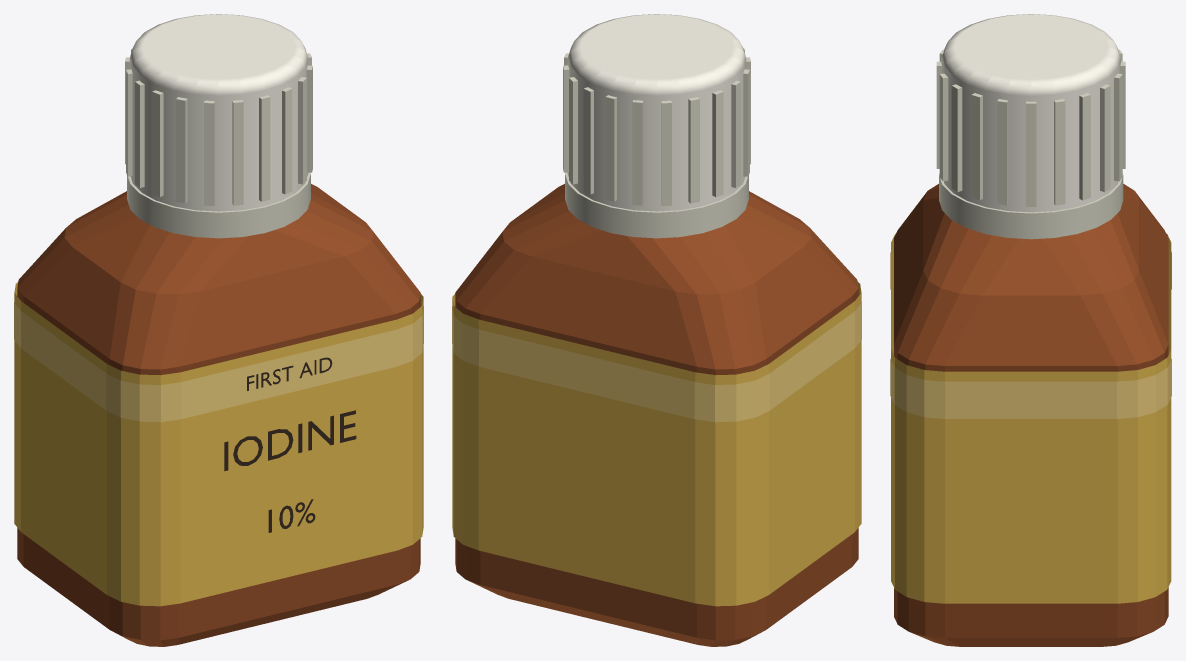
The model's file is IodineBottle.fbx.
3 renders of one model, left to right at view 1: azimuth 30°, elevation 25°; view 2: azimuth 150°, elevation 25°; view 3: azimuth 270°, elevation 25°, orthographic.
Visible parts, largest first — view 1: Gold wrap label, Amber squeeze bottle, White threaded cap, Label highlight band, Cap seal collar, Iodine lettering, Cap grip ridge.012, Cap grip ridge.014, Cap grip ridge.015, Cap grip ridge.011, Cap grip ridge.016, Cap grip ridge.013 (+4 smaller); view 2: Gold wrap label, Amber squeeze bottle, White threaded cap, Label highlight band, Cap seal collar, Cap grip ridge.008, Cap grip ridge.006, Cap grip ridge.005, Cap grip ridge.009, Cap grip ridge.004, Cap grip ridge.007, Cap grip ridge.010 (+3 smaller); view 3: Gold wrap label, Amber squeeze bottle, White threaded cap, Label highlight band, Cap seal collar, Cap grip ridge.002, Cap grip ridge.001, Cap grip ridge.018, Cap grip ridge.019, Cap grip ridge.017, Cap grip ridge, Cap grip ridge.003 (+4 smaller).
Boxes of the visible parts, x1=… form: Gold wrap label: x1=14, y1=282, x2=423, y2=606; Amber squeeze bottle: x1=17, y1=184, x2=420, y2=646; White threaded cap: x1=129, y1=14, x2=308, y2=211; Label highlight band: x1=14, y1=302, x2=423, y2=422; Cap seal collar: x1=127, y1=172, x2=310, y2=238; Iodine lettering: x1=224, y1=410, x2=356, y2=471; Cap grip ridge.012: x1=176, y1=97, x2=187, y2=203; Cap grip ridge.014: x1=232, y1=100, x2=243, y2=205; Cap grip ridge.015: x1=259, y1=95, x2=270, y2=201; Cap grip ridge.011: x1=152, y1=90, x2=163, y2=197; Cap grip ridge.016: x1=282, y1=87, x2=292, y2=194; Cap grip ridge.013: x1=204, y1=100, x2=214, y2=205; Gold wrap label: x1=452, y1=282, x2=861, y2=606; Amber squeeze bottle: x1=455, y1=184, x2=858, y2=646; White threaded cap: x1=567, y1=14, x2=746, y2=211; Label highlight band: x1=452, y1=302, x2=861, y2=422; Cap seal collar: x1=565, y1=172, x2=748, y2=238; Cap grip ridge.008: x1=688, y1=97, x2=699, y2=203; Cap grip ridge.006: x1=632, y1=100, x2=643, y2=205; Cap grip ridge.005: x1=605, y1=95, x2=616, y2=201; Cap grip ridge.009: x1=712, y1=90, x2=723, y2=197; Cap grip ridge.004: x1=583, y1=87, x2=593, y2=194; Cap grip ridge.007: x1=661, y1=100, x2=671, y2=205; Cap grip ridge.010: x1=731, y1=80, x2=740, y2=187; Gold wrap label: x1=891, y1=233, x2=1171, y2=603; Amber squeeze bottle: x1=894, y1=184, x2=1168, y2=646; White threaded cap: x1=941, y1=14, x2=1120, y2=212; Label highlight band: x1=890, y1=252, x2=1171, y2=418; Cap seal collar: x1=939, y1=173, x2=1123, y2=239; Cap grip ridge.002: x1=1079, y1=93, x2=1090, y2=200; Cap grip ridge.001: x1=1054, y1=99, x2=1065, y2=205; Cap grip ridge.018: x1=971, y1=93, x2=982, y2=200; Cap grip ridge.019: x1=997, y1=99, x2=1008, y2=205; Cap grip ridge.017: x1=951, y1=84, x2=962, y2=191; Cap grip ridge: x1=1026, y1=101, x2=1036, y2=206; Cap grip ridge.003: x1=1100, y1=84, x2=1110, y2=191.
Size of the model in its own units: 0.0367 by 0.0605 by 0.0287.
